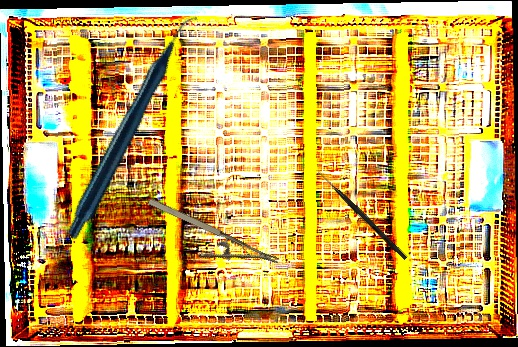Handpiece: (7, 14, 261, 241)
Hook Surgical: (315, 169, 409, 261)
Needle Holder: (137, 194, 280, 290)
